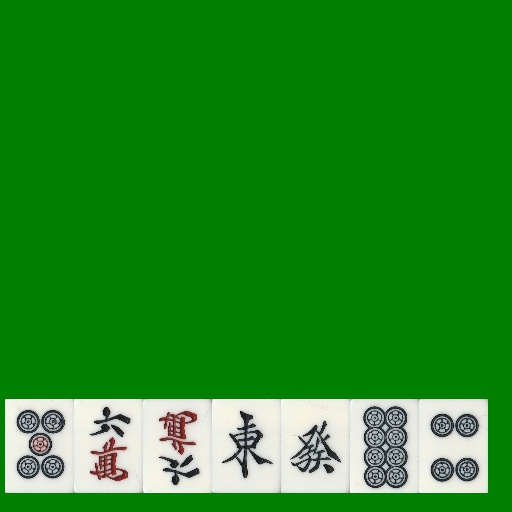4p: (419, 399, 488, 493)
5p: (5, 399, 74, 493)
6m: (74, 399, 143, 493), (143, 399, 212, 493)
8p: (350, 399, 419, 493)
east: (212, 399, 281, 493)
hatsu: (281, 399, 350, 493)
